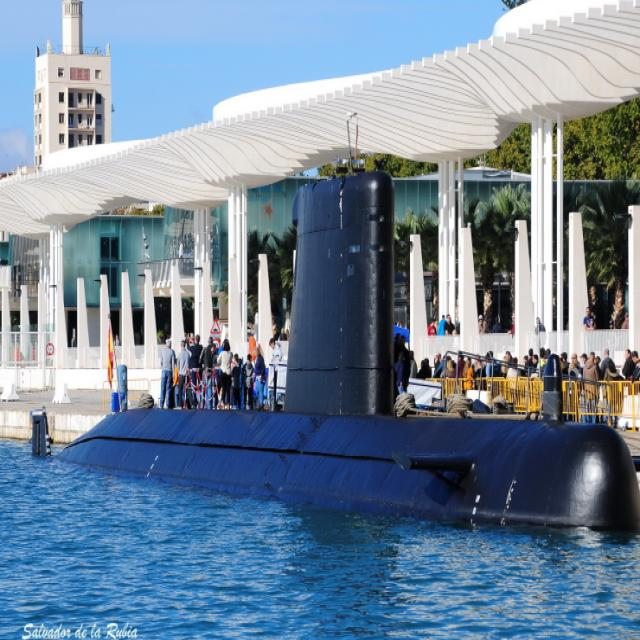submarine: (33, 175, 640, 534)
